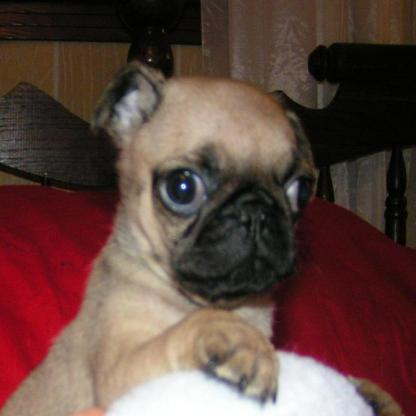pug: (0, 57, 320, 414)
